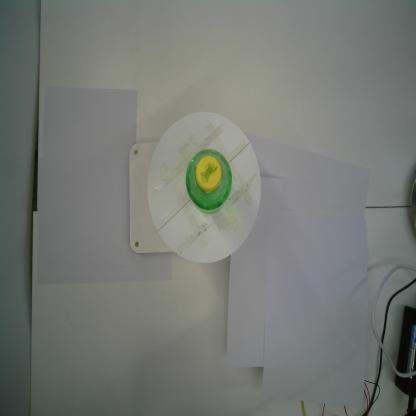Drink: (184, 148, 235, 216)
